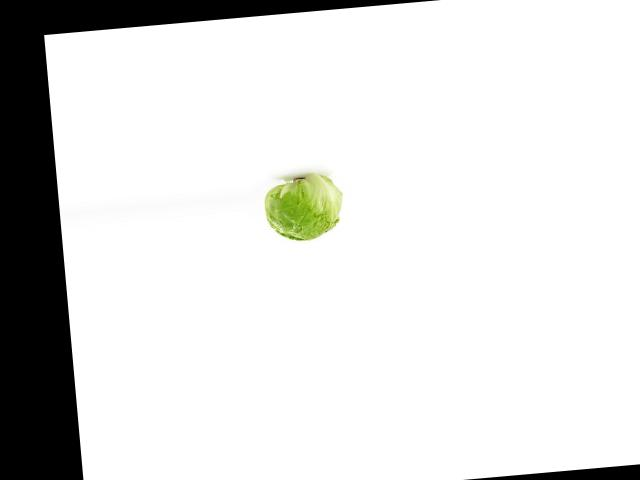lettuce: (253, 176, 346, 246)
